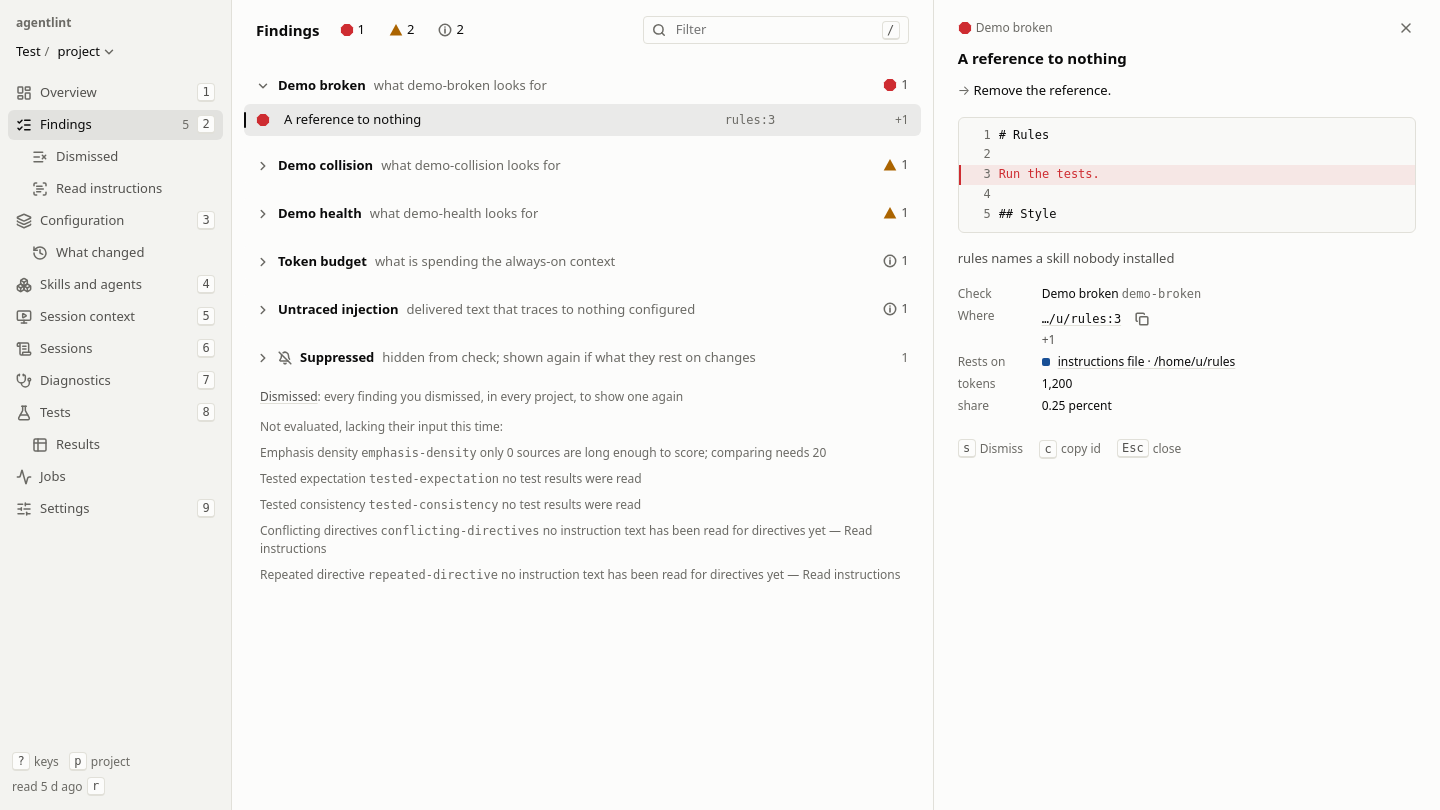
it: Dismiss, in a finding › shows the server's refusal in place and moves nothing
This screenshot has width=1440, height=810.
Expected: the element named "Finding" is shown, [933, 0, 1439, 809]
Click the button "s Dismiss" at x=990, y=449, box [958, 440, 1023, 458]
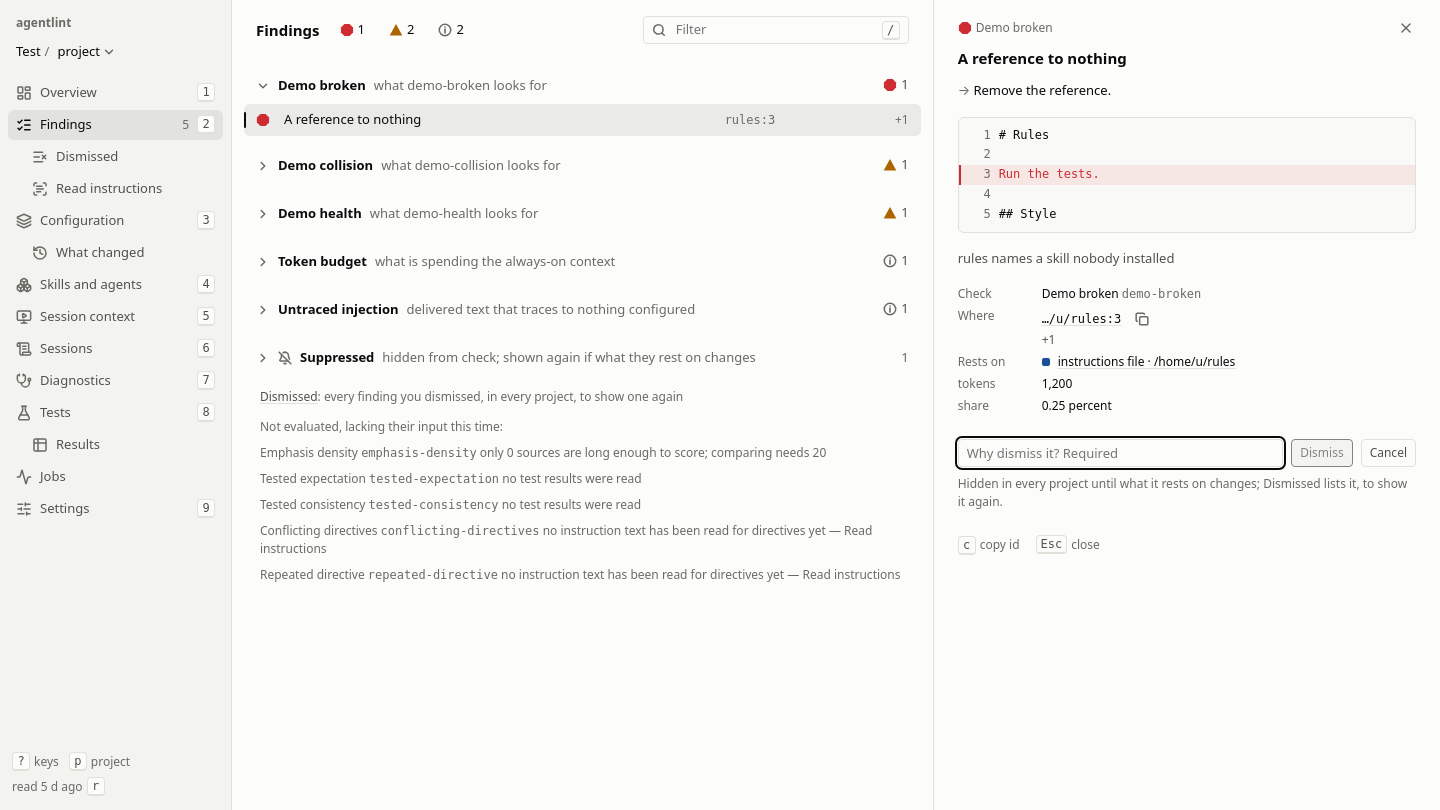
Type "noise" into the field labelled "Why dismiss it" at x=1120, y=453, box [958, 439, 1283, 467]
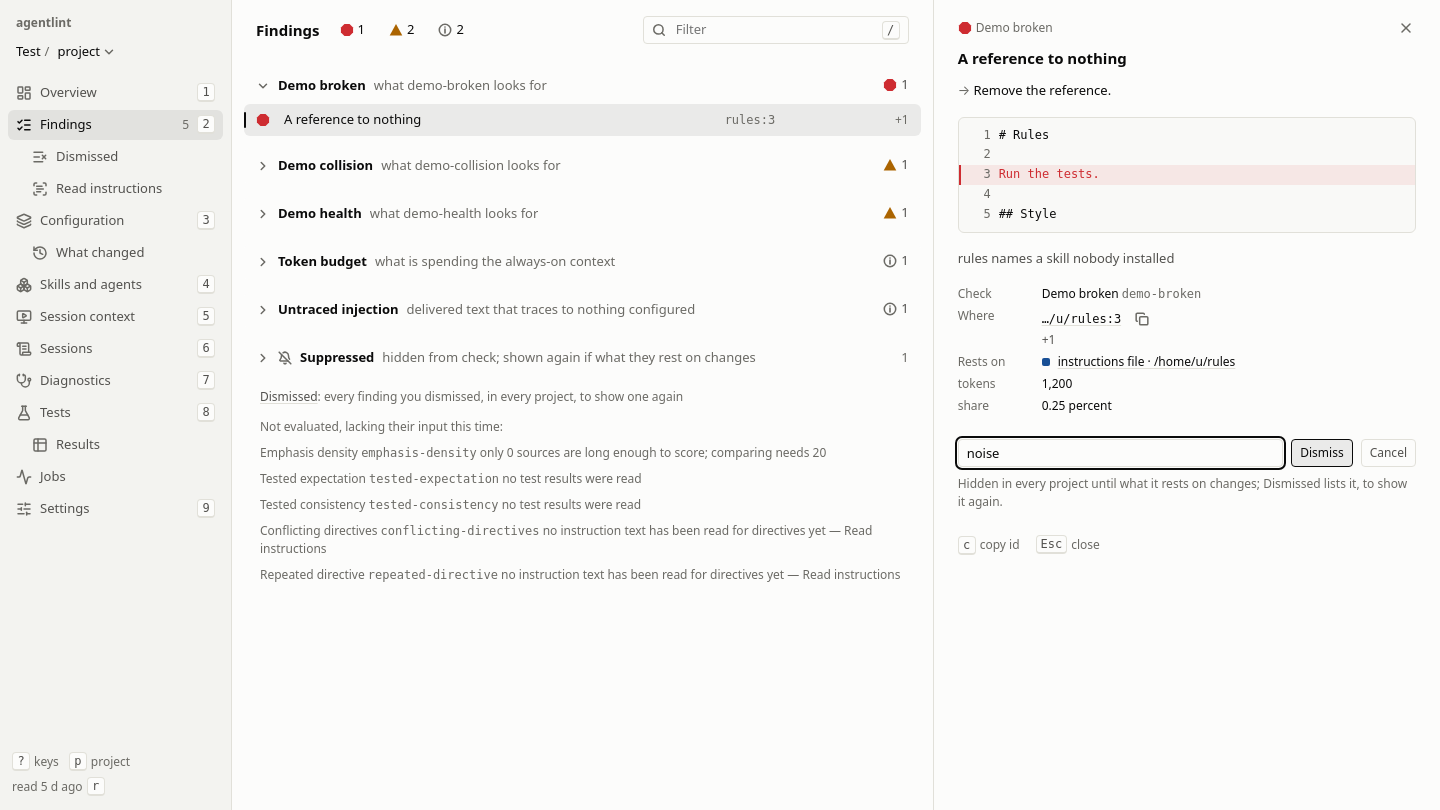
Submit the form, box [958, 439, 1416, 511]
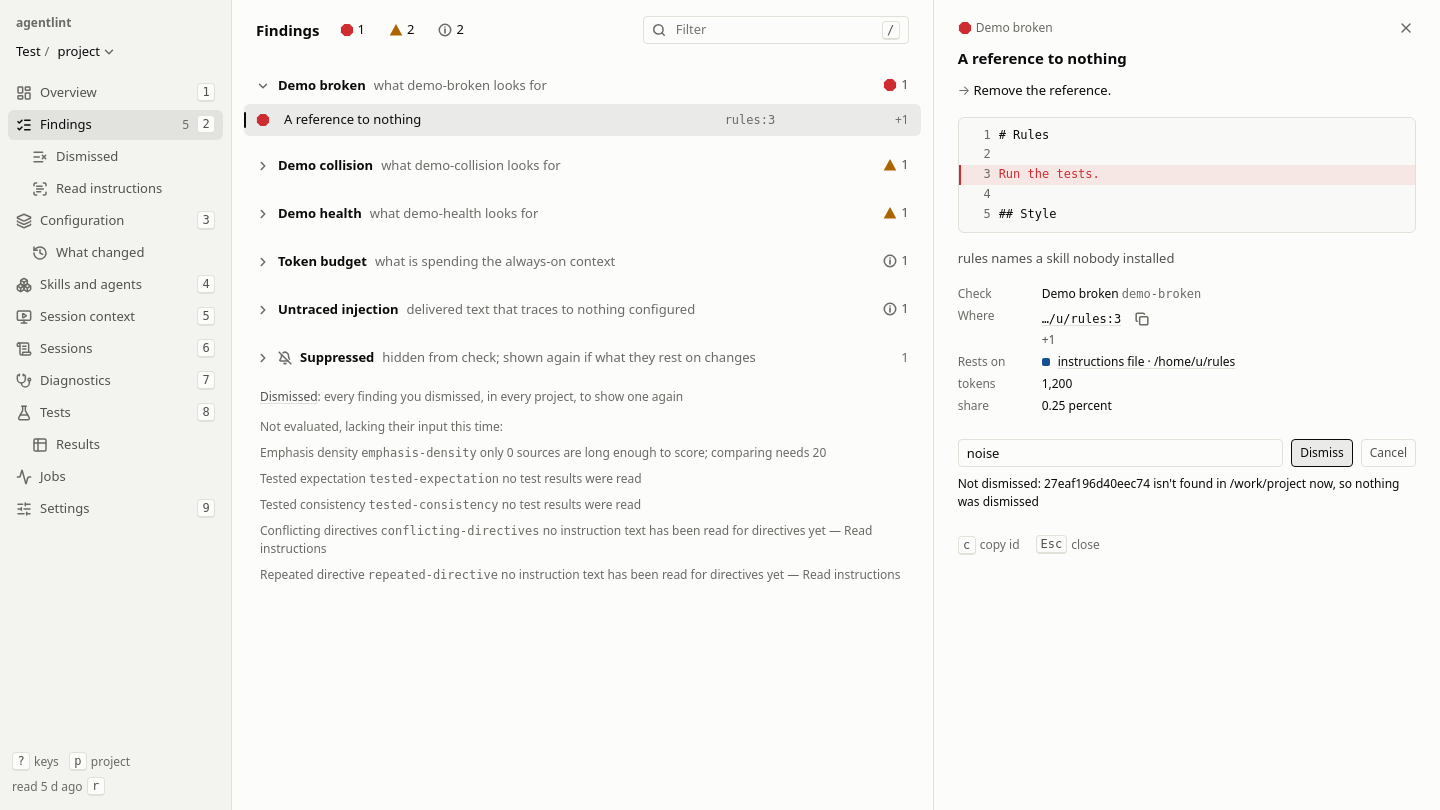
Expected: the element with class "detail-meta" does not show "suppressed"
Expected: the form is shown, [958, 439, 1416, 511]
Expected: the message shows "Not dismissed: 27eaf196d40eec74 isn't found in /work/project now, so nothing was dismissed", [958, 475, 1416, 511]
